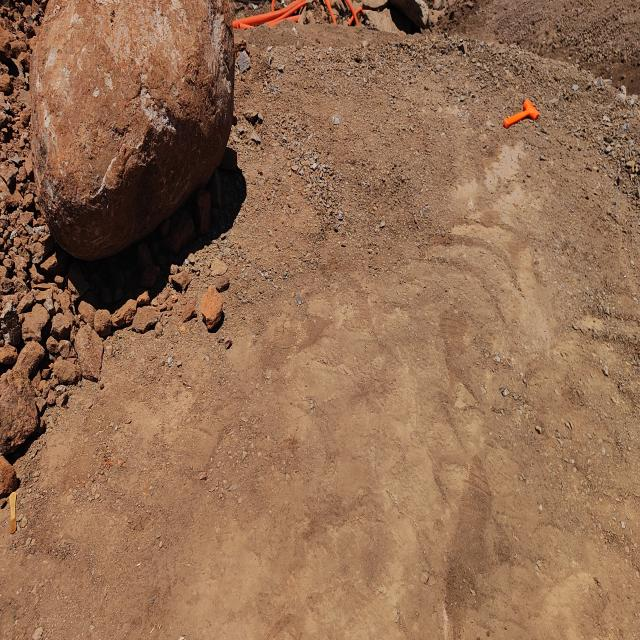Orange_hammer: (502, 98, 540, 129)
